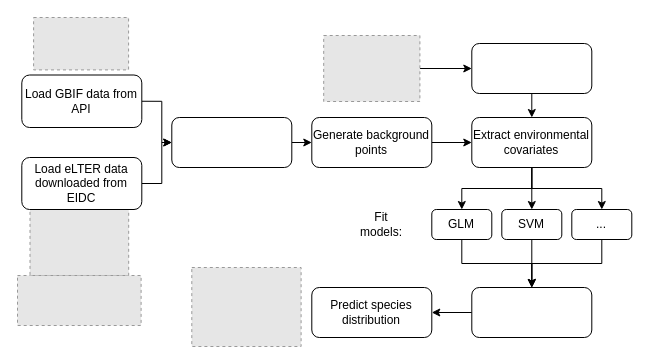
Image size: 650x364. Some labels were removed from this diagram. Grey dashed boxes stand in for pictures. Here are the shapes that lost their labels. From the top down, the centre of each, then its label:
At pixel 531 68: "Download environmental data".
At pixel 231 142: "Data filtering, cleaning and thinning".
At pixel 531 312: "Build ensemble model".
